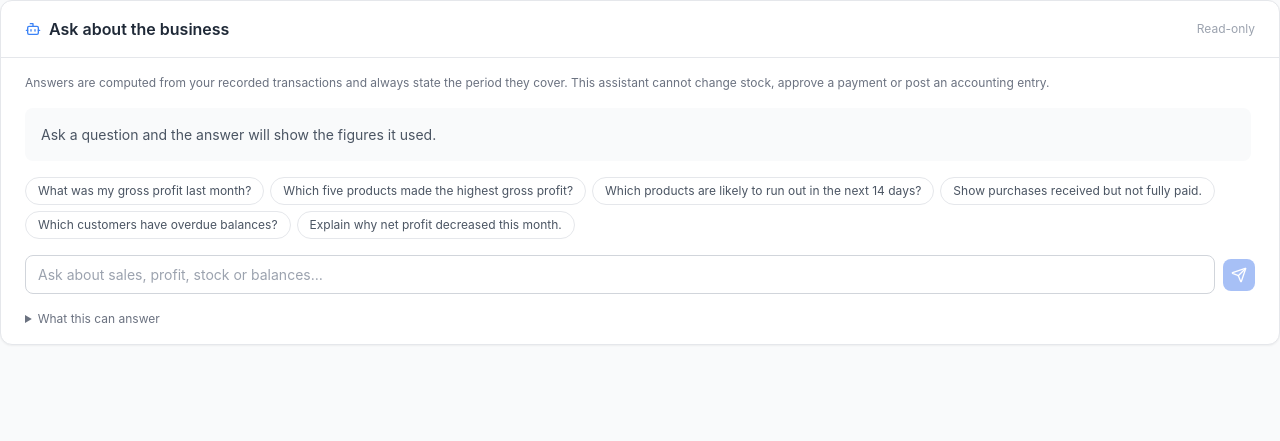
AssistantPanel › surfaces a refused question as a refusal, not as a failure to answer
The image size is (1280, 441).
Click the button "What was my gross profit last month?". click: (145, 191)
box: [25,177,264,205]
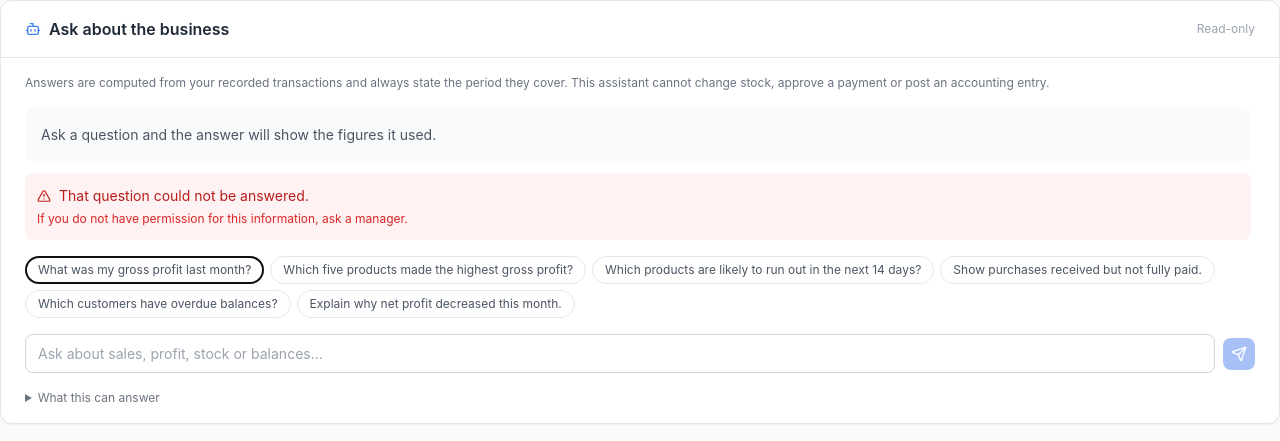
Expected: the text "That question could not be answered." is shown, [37,187,309,204]
Expected: the text "do not have permission" is shown, [37,211,408,226]
